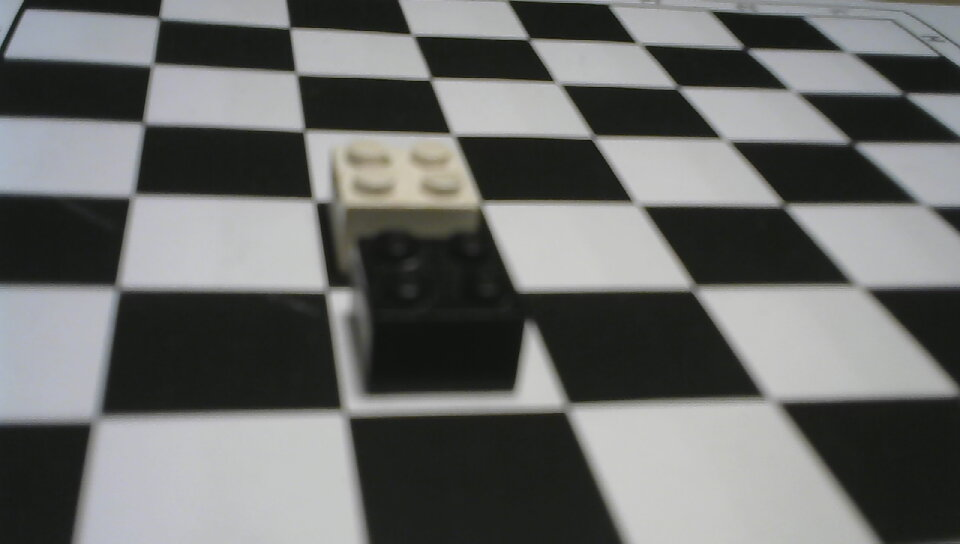wp: (308, 127, 490, 229)
